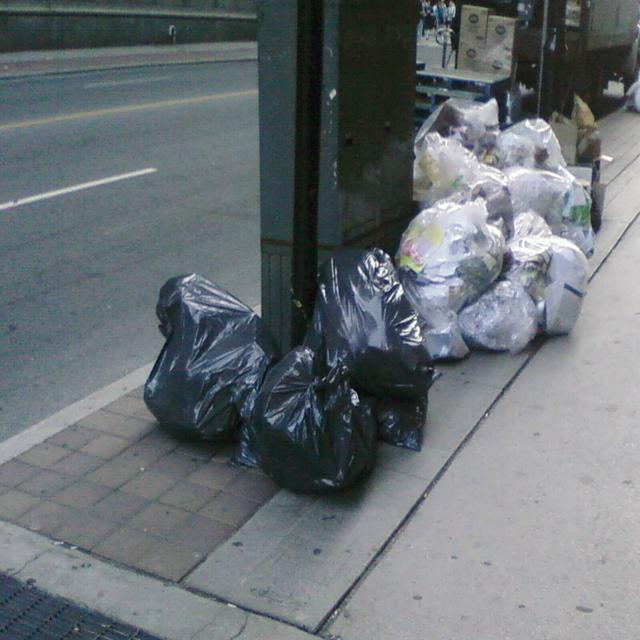garbage: (133, 240, 437, 510), (401, 82, 614, 365)
